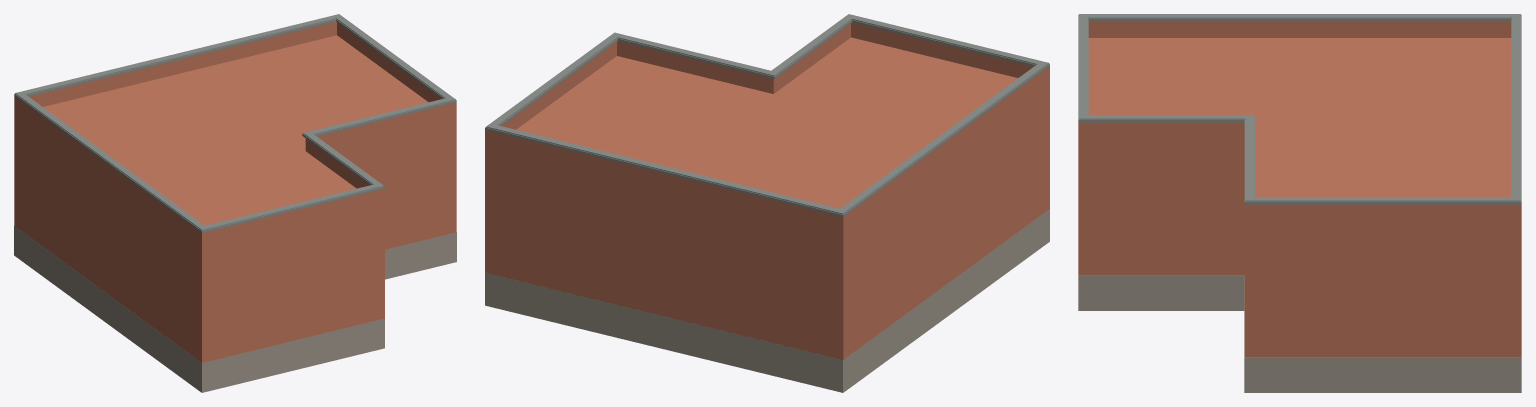
Rendered from building.glb.
3 views of the same model, side by side, from view 1: azimuth 30°, elevation 25°; view 2: azimuth 150°, elevation 25°; view 3: azimuth 270°, elevation 25° (orthographic). The views are drawn at different scales.
Parts seen in each view (by area): view 1: roof/body:0/roof_slab#0001, body:0/edge0/z0/body:0/edge0/z0/wall_0_0, body:0/edge5/z0/body:0/edge5/z0/wall_0_0, roof/body:0/parapet#0001, body:0/edge2/z0/body:0/edge2/z0/wall_0_0, roof/body:0/parapet_cap#0002, body:0/edge5/z0/body:0/edge5/z0/coating_0_0_0, body:0/edge0/z0/body:0/edge0/z0/coating_0_0_0, roof/body:0/parapet_cap#0001, body:0/edge2/z0/body:0/edge2/z0/coating_0_0_0, body:0/edge3/z0/body:0/edge3/z0/wall_0_0, body:0/edge4/z0/body:0/edge4/z0/wall_0_0; view 2: roof/body:0/roof_slab#0001, body:0/edge4/z0/body:0/edge4/z0/wall_0_0, body:0/edge5/z0/body:0/edge5/z0/wall_0_0, roof/body:0/parapet#0001, body:0/edge4/z0/body:0/edge4/z0/coating_0_0_0, roof/body:0/parapet_cap#0002, body:0/edge5/z0/body:0/edge5/z0/coating_0_0_0, roof/body:0/parapet_cap#0001, body:0/edge3/z0/body:0/edge3/z0/wall_0_0, body:0/edge0/z0/body:0/edge0/z0/wall_0_0; view 3: roof/body:0/roof_slab#0001, body:0/edge3/z0/body:0/edge3/z0/wall_0_0, body:0/edge1/z0/body:0/edge1/z0/wall_0_0, roof/body:0/parapet#0001, body:0/edge3/z0/body:0/edge3/z0/coating_0_0_0, roof/body:0/parapet_cap#0002, body:0/edge1/z0/body:0/edge1/z0/coating_0_0_0, roof/body:0/parapet_cap#0001, body:0/edge0/z0/body:0/edge0/z0/wall_0_0, body:0/edge2/z0/body:0/edge2/z0/wall_0_0, body:0/edge4/z0/body:0/edge4/z0/wall_0_0, body:0/edge5/z0/body:0/edge5/z0/wall_0_0.
Boxes of the visible parts, x1,y1,x2,y2 form: roof/body:0/roof_slab#0001: [16, 37, 448, 255]; body:0/edge0/z0/body:0/edge0/z0/wall_0_0: [197, 204, 384, 362]; body:0/edge5/z0/body:0/edge5/z0/wall_0_0: [14, 111, 209, 362]; roof/body:0/parapet#0001: [14, 22, 456, 248]; body:0/edge2/z0/body:0/edge2/z0/wall_0_0: [333, 117, 456, 249]; roof/body:0/parapet_cap#0002: [15, 14, 455, 230]; body:0/edge5/z0/body:0/edge5/z0/coating_0_0_0: [14, 226, 201, 392]; body:0/edge0/z0/body:0/edge0/z0/coating_0_0_0: [202, 318, 384, 392]; roof/body:0/parapet_cap#0001: [14, 19, 456, 233]; body:0/edge2/z0/body:0/edge2/z0/coating_0_0_0: [385, 232, 456, 279]; body:0/edge3/z0/body:0/edge3/z0/wall_0_0: [335, 35, 456, 233]; body:0/edge4/z0/body:0/edge4/z0/wall_0_0: [14, 35, 337, 228]; roof/body:0/roof_slab#0001: [485, 38, 1049, 241]; body:0/edge4/z0/body:0/edge4/z0/wall_0_0: [485, 146, 848, 359]; body:0/edge5/z0/body:0/edge5/z0/wall_0_0: [834, 83, 1049, 359]; roof/body:0/parapet#0001: [485, 22, 1049, 233]; body:0/edge4/z0/body:0/edge4/z0/coating_0_0_0: [485, 273, 843, 392]; roof/body:0/parapet_cap#0002: [486, 14, 1048, 214]; body:0/edge5/z0/body:0/edge5/z0/coating_0_0_0: [843, 209, 1049, 392]; roof/body:0/parapet_cap#0001: [485, 20, 1049, 216]; body:0/edge3/z0/body:0/edge3/z0/wall_0_0: [485, 56, 617, 273]; body:0/edge0/z0/body:0/edge0/z0/wall_0_0: [850, 37, 1049, 208]; roof/body:0/roof_slab#0001: [1078, 38, 1521, 231]; body:0/edge3/z0/body:0/edge3/z0/wall_0_0: [1244, 222, 1521, 357]; body:0/edge1/z0/body:0/edge1/z0/wall_0_0: [1078, 140, 1244, 275]; roof/body:0/parapet#0001: [1078, 21, 1521, 221]; body:0/edge3/z0/body:0/edge3/z0/coating_0_0_0: [1244, 357, 1521, 392]; roof/body:0/parapet_cap#0002: [1079, 14, 1520, 201]; body:0/edge1/z0/body:0/edge1/z0/coating_0_0_0: [1078, 275, 1244, 310]; roof/body:0/parapet_cap#0001: [1078, 14, 1521, 204]; body:0/edge0/z0/body:0/edge0/z0/wall_0_0: [1078, 38, 1089, 275]; body:0/edge2/z0/body:0/edge2/z0/wall_0_0: [1244, 140, 1255, 357]; body:0/edge4/z0/body:0/edge4/z0/wall_0_0: [1510, 38, 1521, 357]; body:0/edge5/z0/body:0/edge5/z0/wall_0_0: [1088, 38, 1511, 39].
Size of the model in its own units: 8 by 3.82 by 8.
